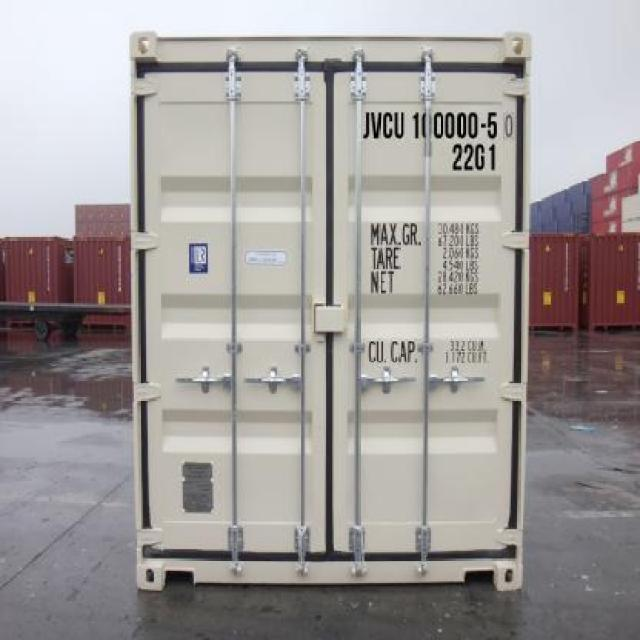ISO: (450, 144, 498, 172)
container_number: (362, 112, 515, 140)
